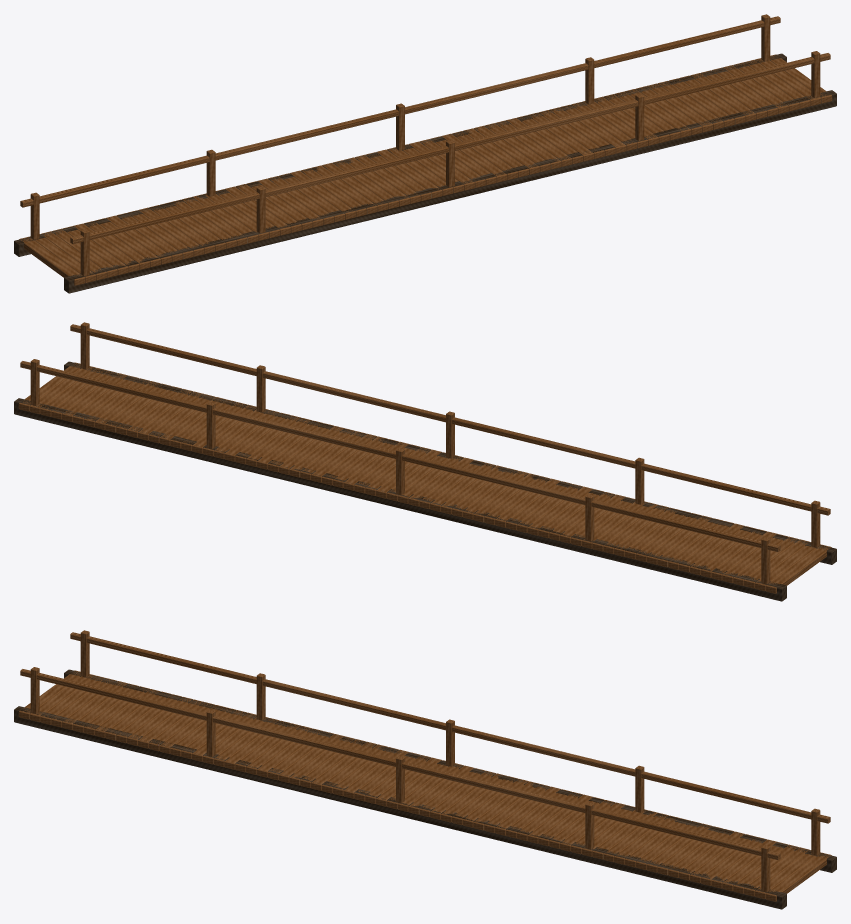
File: farm_bridge.glb
3 views of the same model, one above another, from view 1: azimuth 30°, elevation 25°; view 2: azimuth 150°, elevation 25°; view 3: azimuth 330°, elevation 25° (orthographic).
Parts seen in each view (by area): view 1: farm_bridge.002; view 2: farm_bridge.002; view 3: farm_bridge.002.
Part boxes in pixels (bbox=[...]): farm_bridge.002: bbox=[14, 14, 836, 293]; farm_bridge.002: bbox=[14, 322, 836, 601]; farm_bridge.002: bbox=[14, 630, 836, 909].
Bounding box in the file's own units: 28.4 × 2 × 3.6.
1 material, 1 textured.
